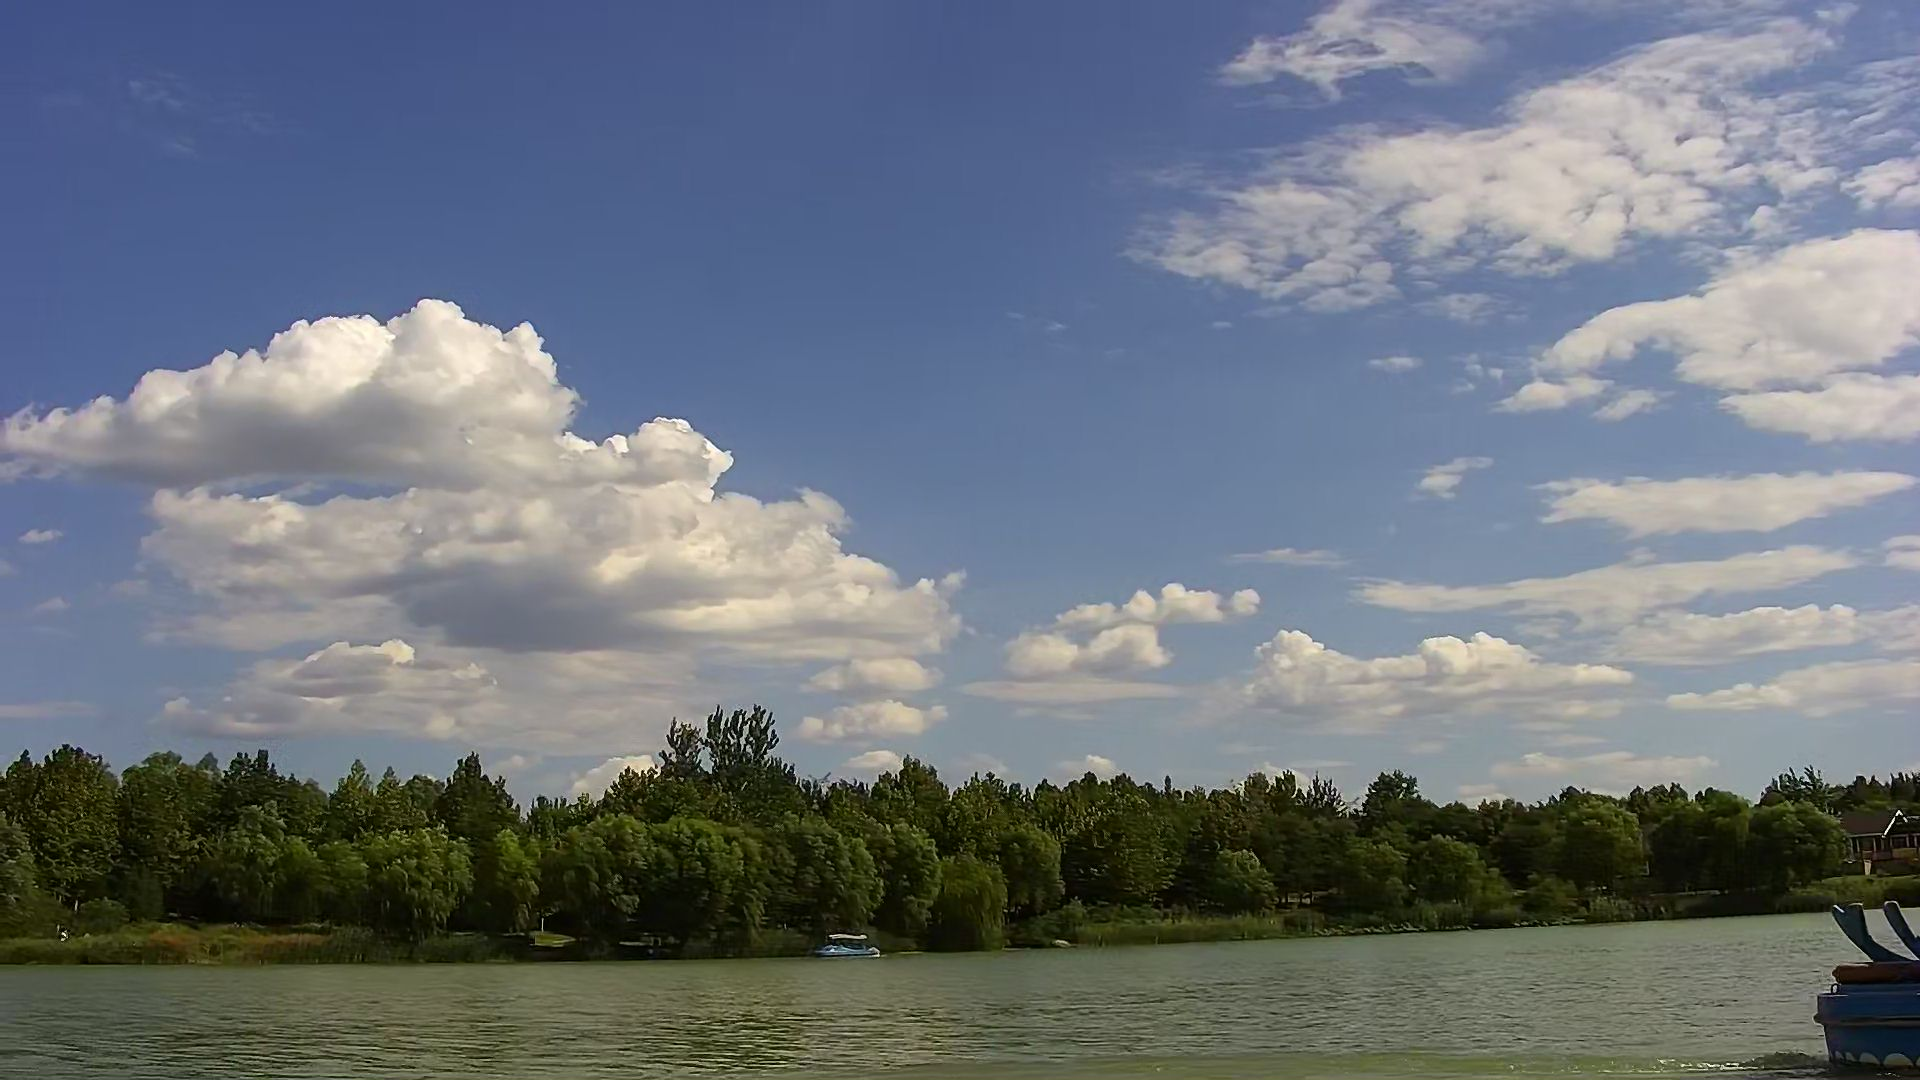boat: (818, 918, 882, 967)
